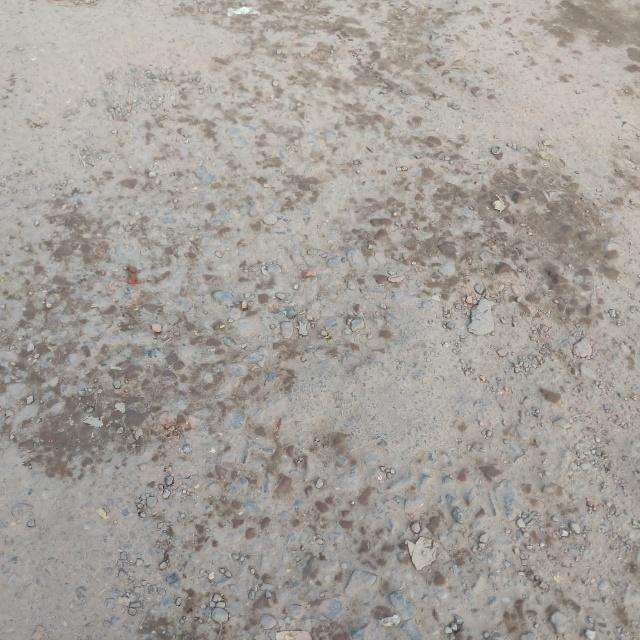Surface Erosion: (39, 44, 640, 626)
